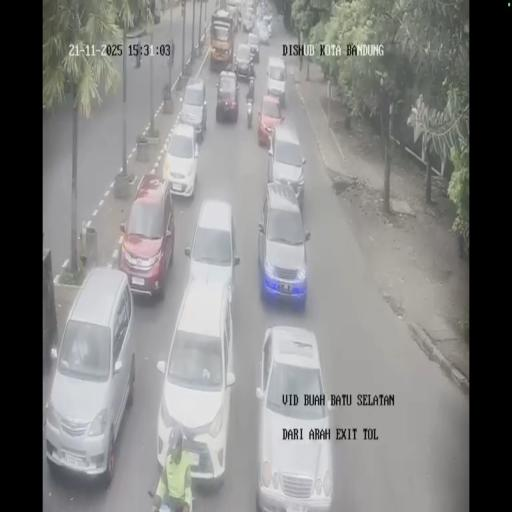car: (118, 173, 176, 297), (268, 124, 306, 206), (162, 124, 200, 199), (180, 78, 208, 140), (215, 69, 239, 122), (266, 55, 288, 107), (234, 43, 254, 81), (243, 6, 254, 32), (262, 14, 272, 36)
truck: (208, 9, 234, 71), (226, 0, 242, 29)
